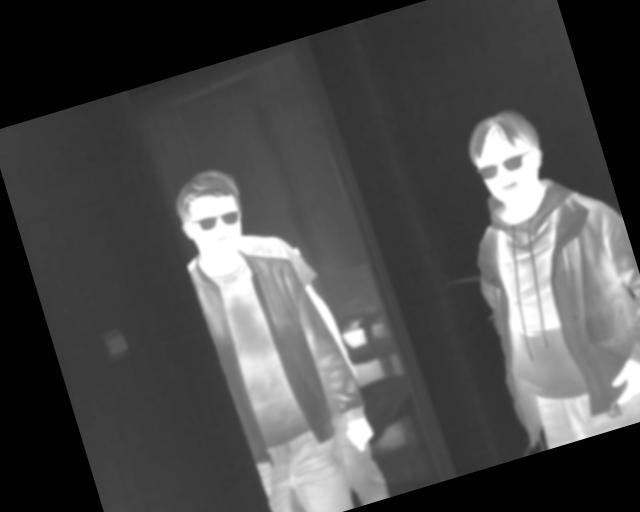face: (459, 100, 555, 211), (168, 167, 254, 271)
